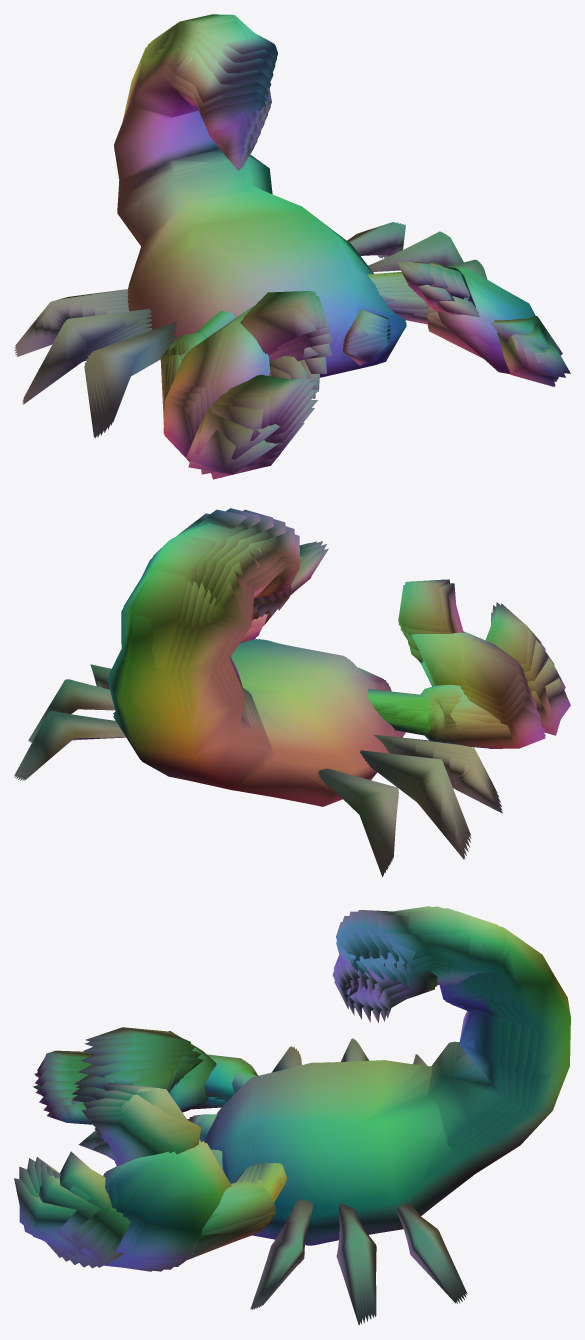
The model's file is Idle_meshes.fbx.
3 views of the same model, one above another, from view 1: azimuth 30°, elevation 25°; view 2: azimuth 150°, elevation 25°; view 3: azimuth 270°, elevation 25° (orthographic). The views are drawn at different scales.
Visible parts, largest first — view 1: Idle_000, Idle_008, Idle_004, Idle_007, Idle_006, Idle_005, Idle_003, Idle_015, Idle_001, Idle_002, Idle_014, Idle_009 (+4 smaller); view 2: Idle_015, Idle_000, Idle_012, Idle_014, Idle_013, Idle_011, Idle_001, Idle_010, Idle_003, Idle_002, Idle_004, Idle_005 (+4 smaller); view 3: Idle_000, Idle_001, Idle_015, Idle_012, Idle_014, Idle_011, Idle_013, Idle_004, Idle_003, Idle_002, Idle_010, Idle_009 (+4 smaller).
Boxes of the visible parts, left/top/right/bottom form: Idle_000: left=17, top=23, right=522, bottom=428; Idle_008: left=17, top=53, right=549, bottom=477; Idle_004: left=17, top=29, right=554, bottom=474; Idle_007: left=18, top=46, right=570, bottom=479; Idle_006: left=17, top=41, right=565, bottom=477; Idle_005: left=17, top=35, right=558, bottom=474; Idle_003: left=17, top=21, right=554, bottom=472; Idle_015: left=16, top=26, right=517, bottom=424; Idle_001: left=17, top=14, right=556, bottom=441; Idle_002: left=17, top=16, right=555, bottom=459; Idle_014: left=15, top=31, right=482, bottom=425; Idle_009: left=16, top=58, right=560, bottom=462; Idle_015: left=14, top=579, right=541, bottom=859; Idle_000: left=14, top=545, right=545, bottom=857; Idle_012: left=18, top=589, right=497, bottom=870; Idle_014: left=15, top=579, right=523, bottom=862; Idle_013: left=16, top=582, right=519, bottom=866; Idle_011: left=20, top=596, right=499, bottom=873; Idle_001: left=48, top=513, right=554, bottom=856; Idle_010: left=22, top=584, right=500, bottom=875; Idle_003: left=49, top=508, right=570, bottom=860; Idle_002: left=49, top=509, right=565, bottom=858; Idle_004: left=49, top=509, right=560, bottom=864; Idle_005: left=50, top=519, right=557, bottom=868; Idle_000: left=53, top=930, right=568, bottom=1324; Idle_001: left=46, top=914, right=562, bottom=1325; Idle_015: left=45, top=948, right=570, bottom=1324; Idle_012: left=35, top=956, right=464, bottom=1319; Idle_014: left=37, top=952, right=555, bottom=1323; Idle_011: left=36, top=956, right=472, bottom=1317; Idle_013: left=35, top=955, right=462, bottom=1321; Idle_004: left=27, top=906, right=511, bottom=1309; Idle_003: left=33, top=908, right=521, bottom=1322; Idle_002: left=34, top=911, right=531, bottom=1324; Idle_010: left=39, top=954, right=470, bottom=1316; Idle_009: left=43, top=949, right=470, bottom=1315.
Size of the model in its own units: 399 by 253 by 417.
